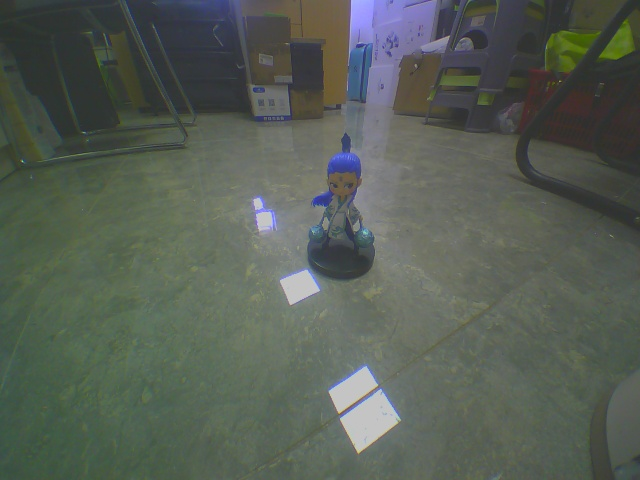Aobing: (295, 132, 395, 284)
